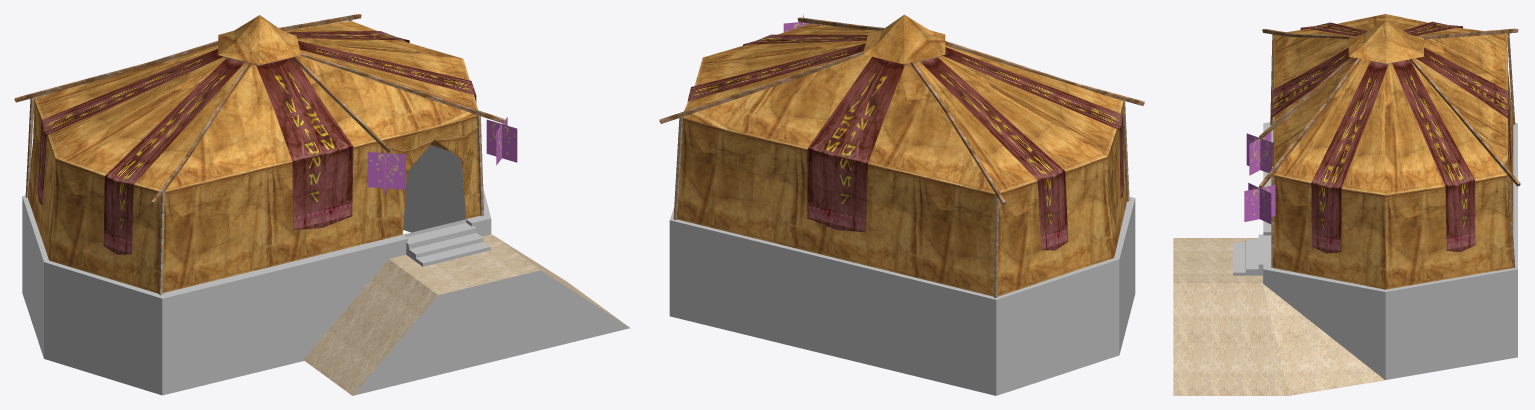
Rendered from ply_tato_idesigner_tent_s01_r0_mesh_l0.fbx.
3 views of the same model, side by side, from view 1: azimuth 30°, elevation 25°; view 2: azimuth 150°, elevation 25°; view 3: azimuth 270°, elevation 25° (orthographic). The views are drawn at different scales.
Visible parts, largest first — view 1: mesh_node; view 2: mesh_node; view 3: mesh_node.
Part boxes in pixels (<box>): mesh_node: <box>14,14,630,395</box>; mesh_node: <box>659,14,1144,395</box>; mesh_node: <box>1173,14,1520,395</box>.
Size of the model in its own units: 17.22 by 10.19 by 12.12.
